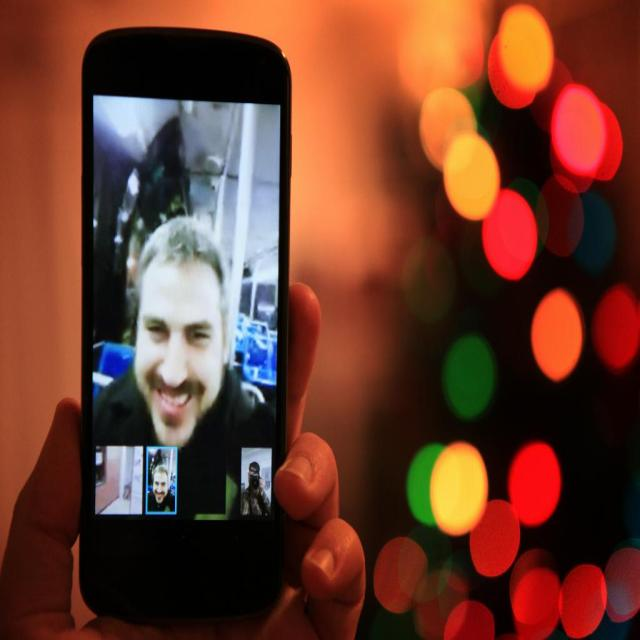Mobile-phone: (72, 14, 304, 617)
